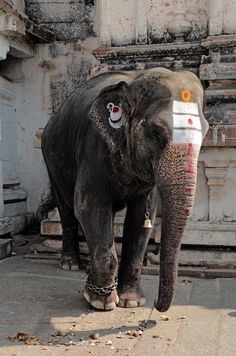Indian Elephant: (25, 64, 213, 321)
